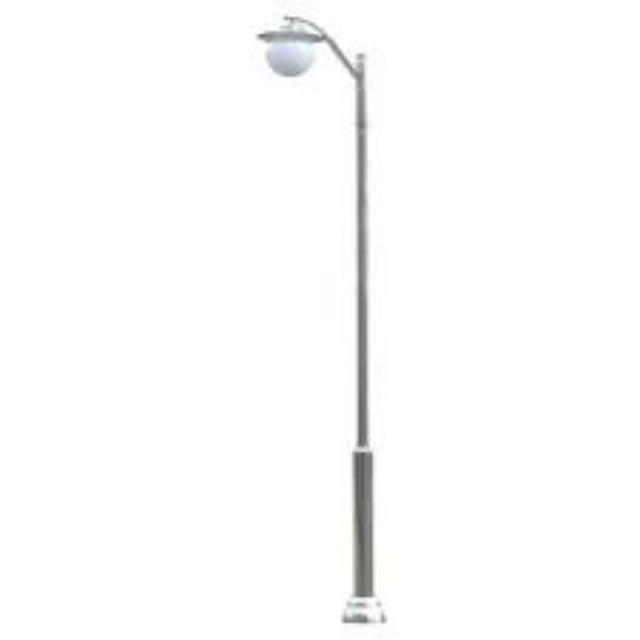Street-Lamp: (230, 6, 422, 640)
